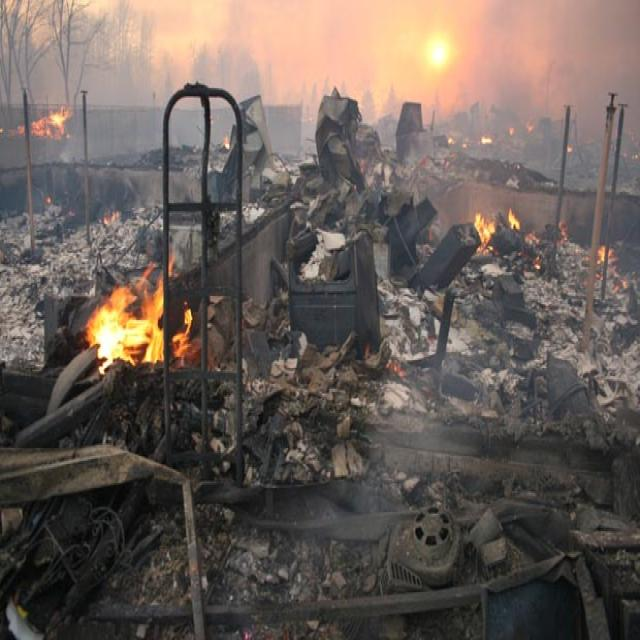fire: (90, 263, 192, 377), (26, 100, 70, 142), (475, 208, 518, 246)
